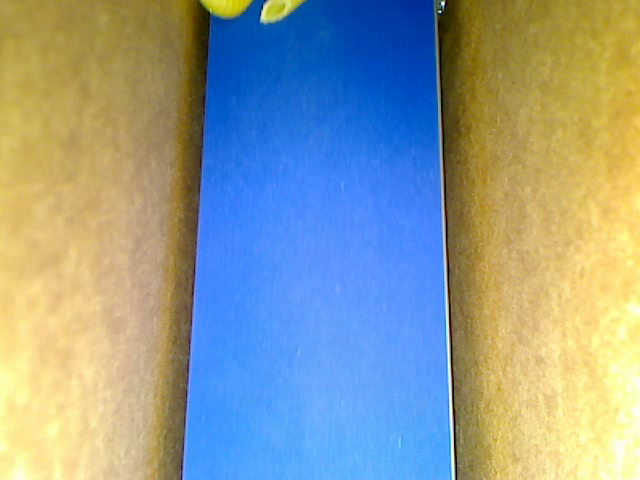penne: (258, 1, 307, 26)
